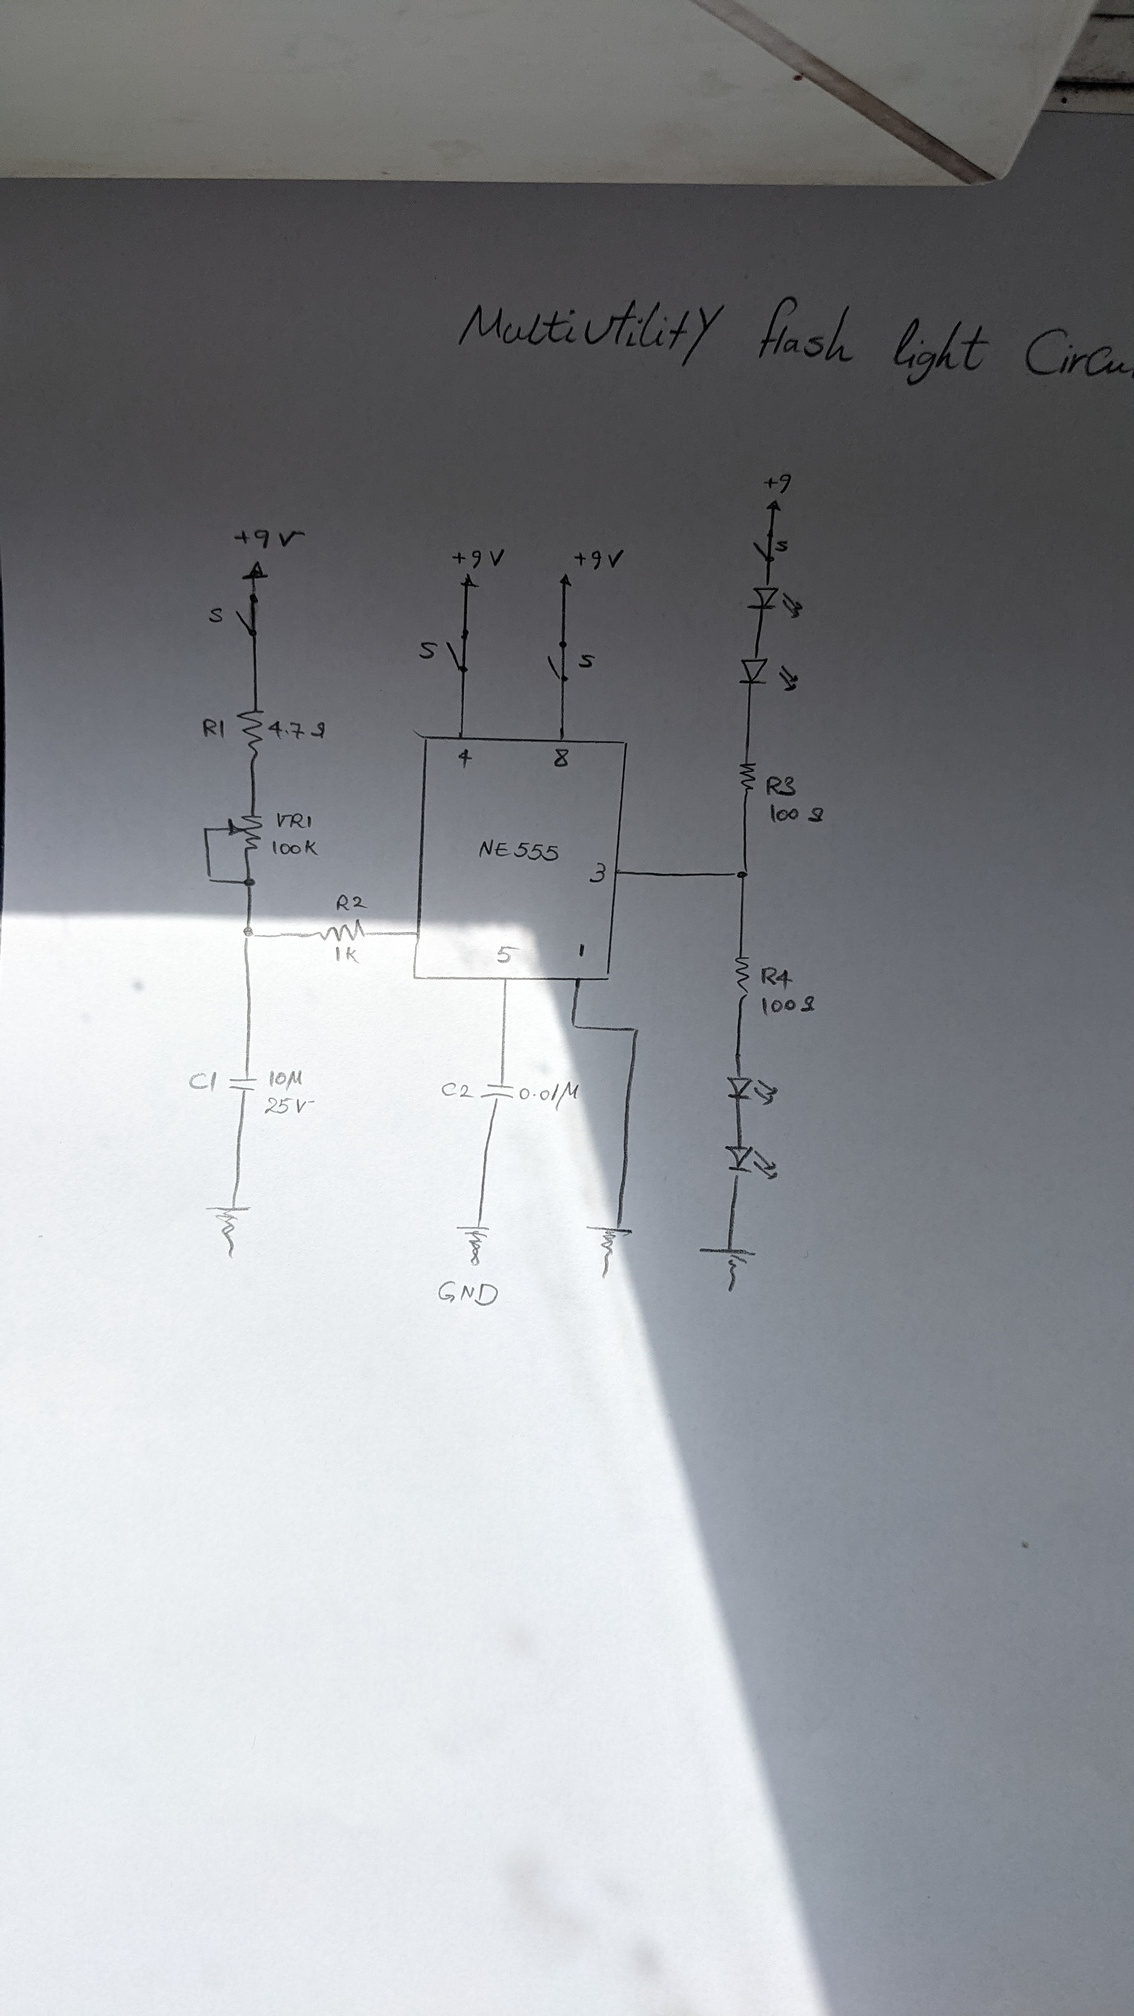capacitor.unpolarized: (478, 1081, 516, 1102), (226, 1073, 260, 1095)
diode.light_emitting: (737, 655, 800, 692), (745, 582, 804, 620), (723, 1144, 780, 1182), (726, 1074, 780, 1108)
gnd: (696, 1245, 759, 1295), (584, 1221, 636, 1281), (204, 1203, 253, 1261), (453, 1223, 493, 1268)
integrated_cricuit.ne555: (408, 727, 630, 984)
junction: (240, 924, 258, 942), (731, 865, 750, 882), (242, 875, 258, 888), (566, 1018, 579, 1033), (629, 1025, 642, 1037), (204, 872, 215, 883), (199, 827, 212, 834)
resistor: (234, 708, 266, 762), (310, 917, 368, 943), (734, 954, 753, 1002), (737, 762, 757, 793)
resistor.adjustable: (226, 813, 264, 854)
switch: (234, 593, 263, 640), (444, 627, 472, 674), (546, 640, 570, 684), (750, 530, 775, 565)
text: (454, 291, 1134, 389), (476, 836, 561, 865), (518, 1079, 580, 1113), (435, 1278, 503, 1308), (233, 528, 307, 550), (266, 719, 328, 742), (450, 546, 508, 570), (572, 547, 629, 572), (760, 993, 817, 1018), (768, 802, 825, 825), (270, 838, 323, 858), (263, 1097, 317, 1115), (266, 1068, 305, 1092), (759, 965, 795, 991), (187, 1068, 220, 1095), (274, 809, 314, 831), (762, 471, 793, 496), (764, 774, 798, 798), (334, 892, 371, 912), (440, 1080, 476, 1101), (199, 716, 228, 741), (493, 943, 523, 966), (332, 944, 361, 966), (587, 858, 608, 886), (417, 638, 439, 663), (456, 746, 475, 771), (575, 652, 598, 672), (551, 746, 570, 770), (208, 605, 224, 624), (774, 537, 791, 555), (575, 942, 587, 964)
vss: (240, 558, 271, 582), (460, 572, 480, 590), (557, 572, 573, 588), (764, 498, 784, 512)
